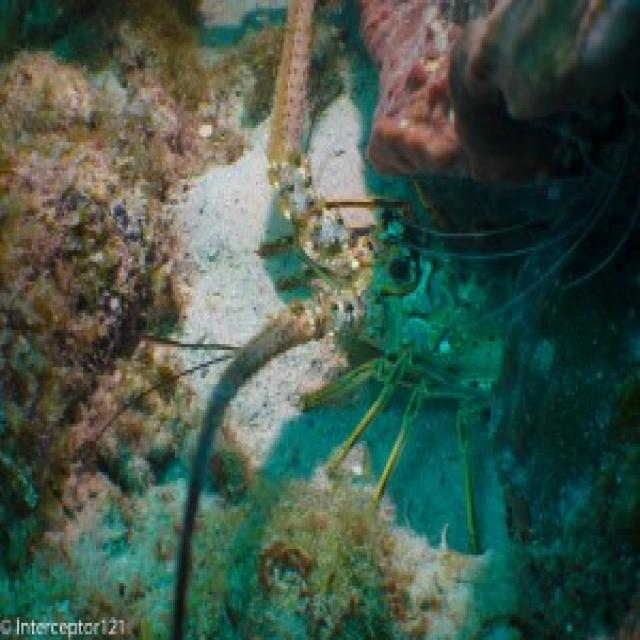lobsters: (101, 39, 584, 565)
